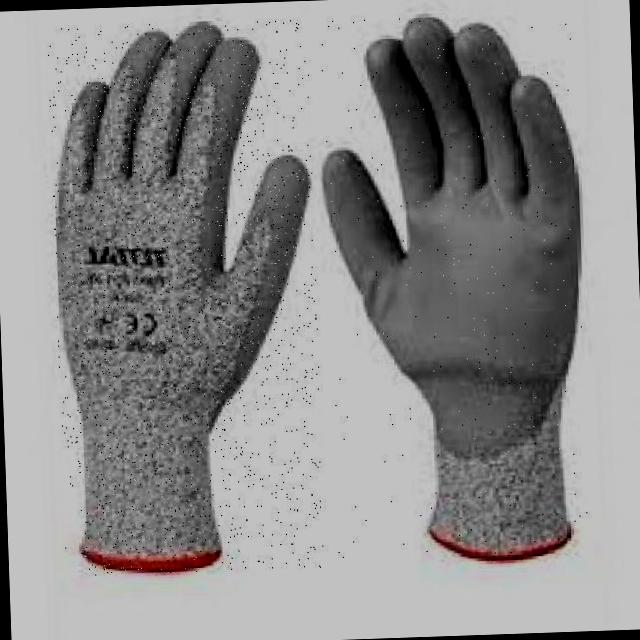gloves: (318, 11, 592, 567), (51, 19, 316, 580)
